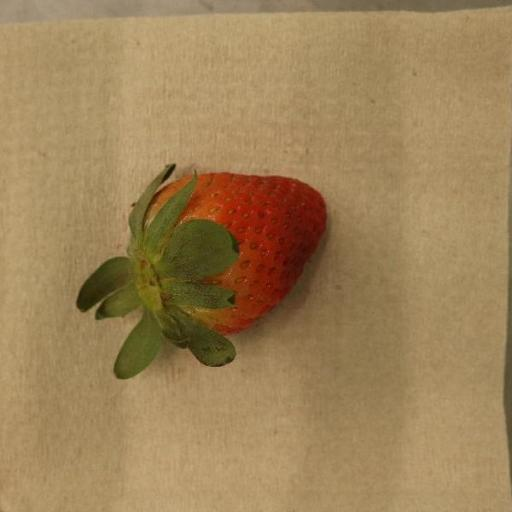Strawberry: (75, 164, 327, 381)
